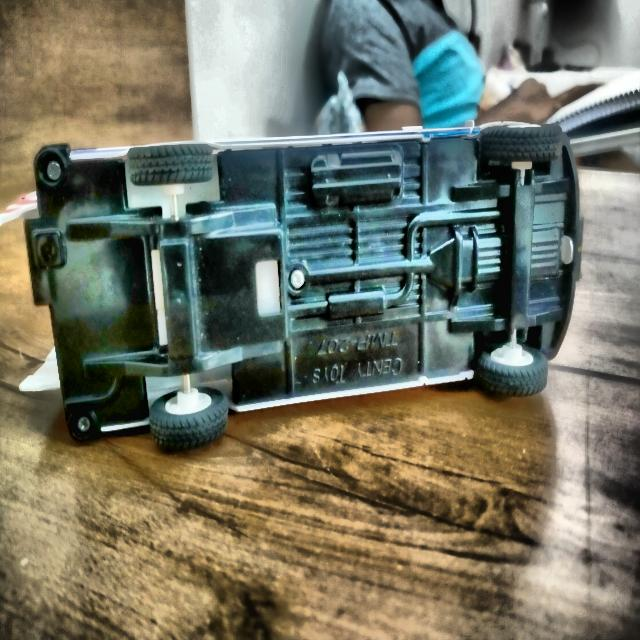Ambulance: (1, 115, 587, 458)
